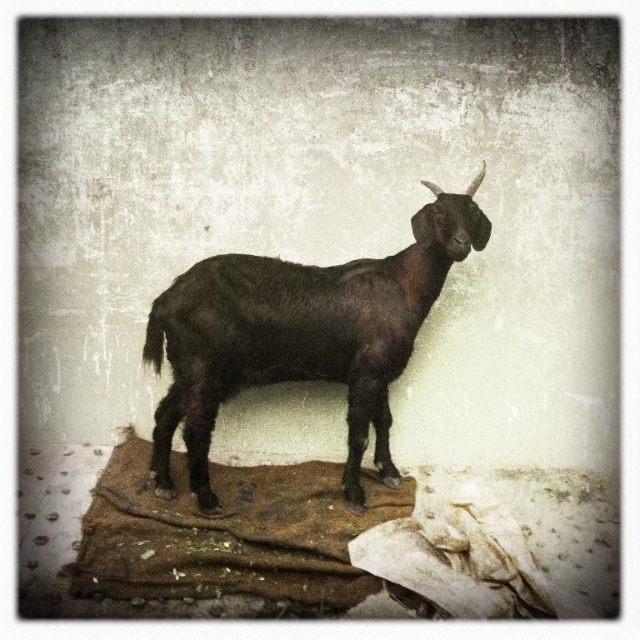Goat: (138, 159, 493, 516)
